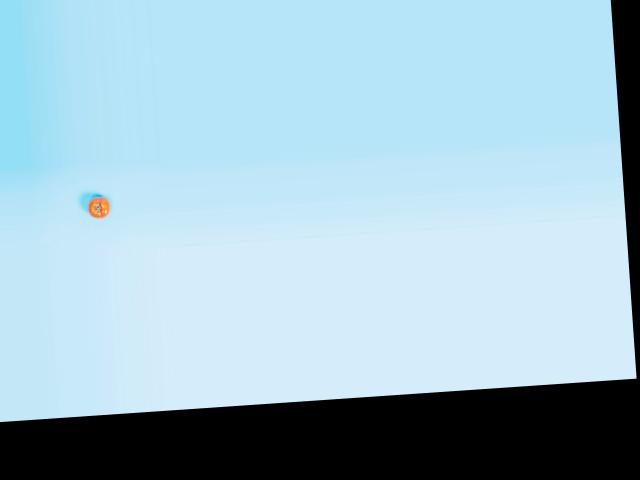tomato: (86, 195, 110, 219)
